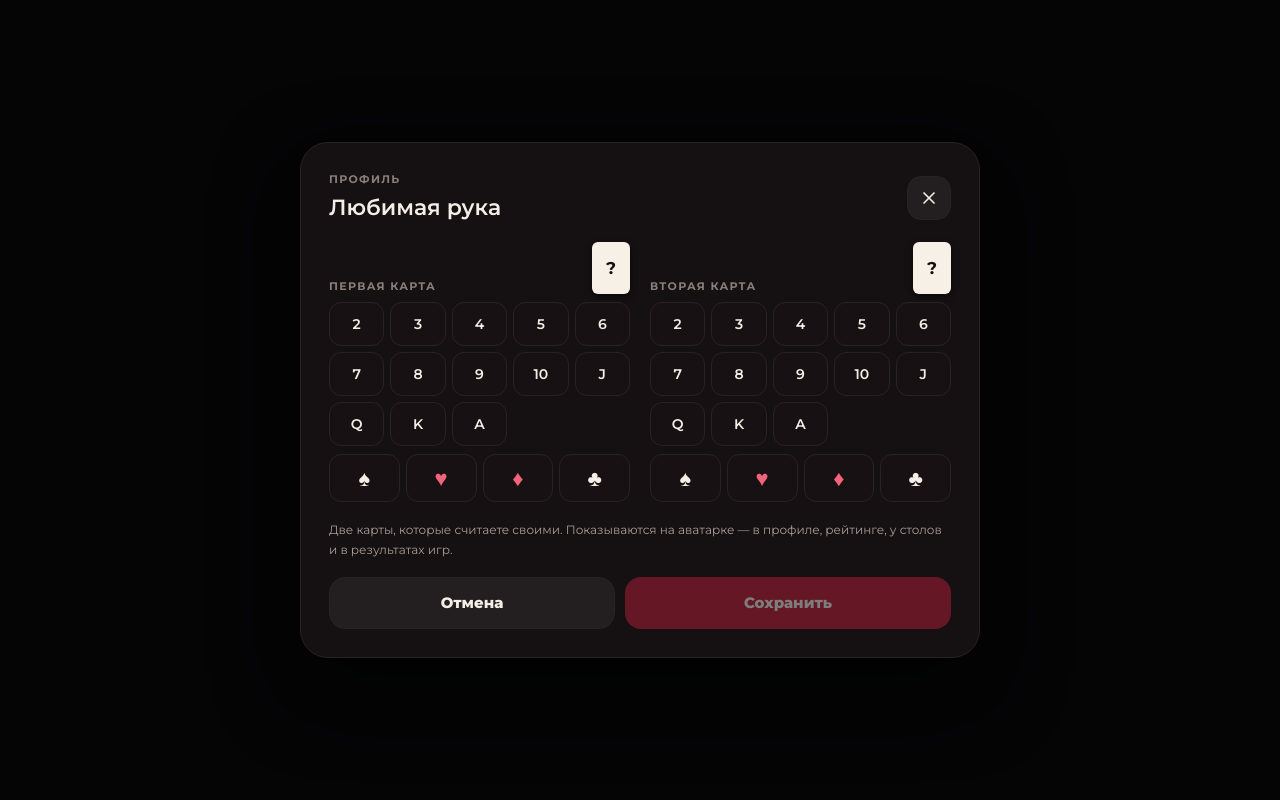
Test: FavoriteHandPicker › shows why the club refused it and stays open
What coordinates should you click on to do the following:
click the button "7" below "Первая карта"
I would click on:
 (357, 374)
Its box is [329,352,384,396].
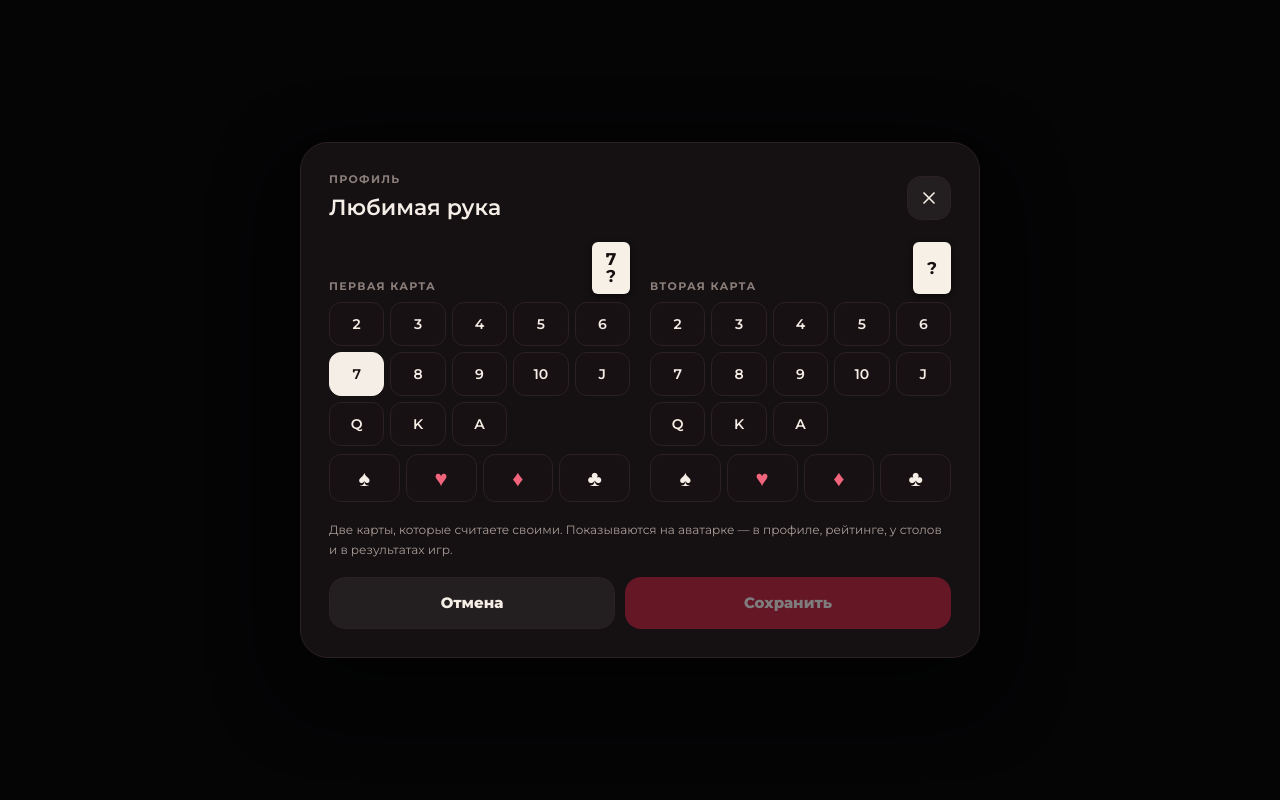
What coordinates should you click on to do the following:
click the button named "трефы"
I would click on:
 (595, 478)
Its box is [559,454,630,502].
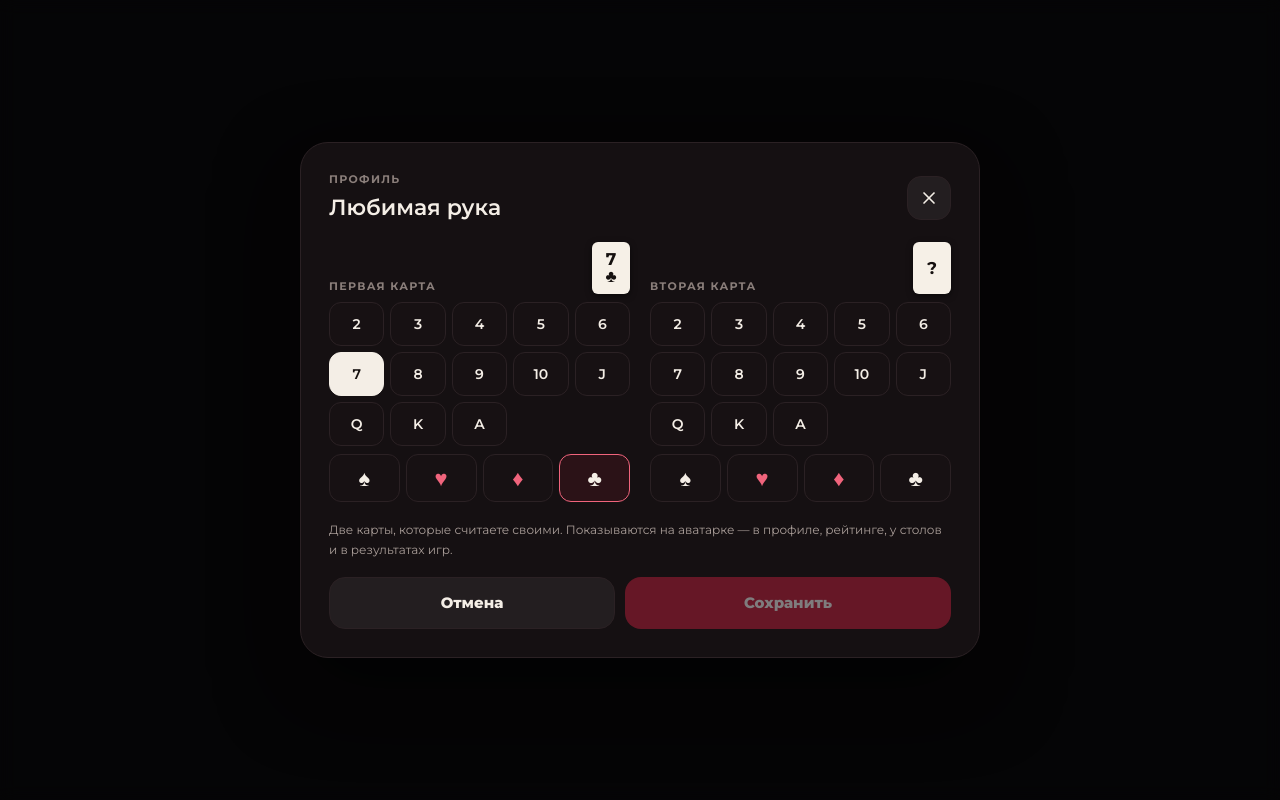
What coordinates should you click on to do the following:
click the button "2" below "Вторая карта"
I would click on:
 (678, 324)
Its box is [650,302,705,346].
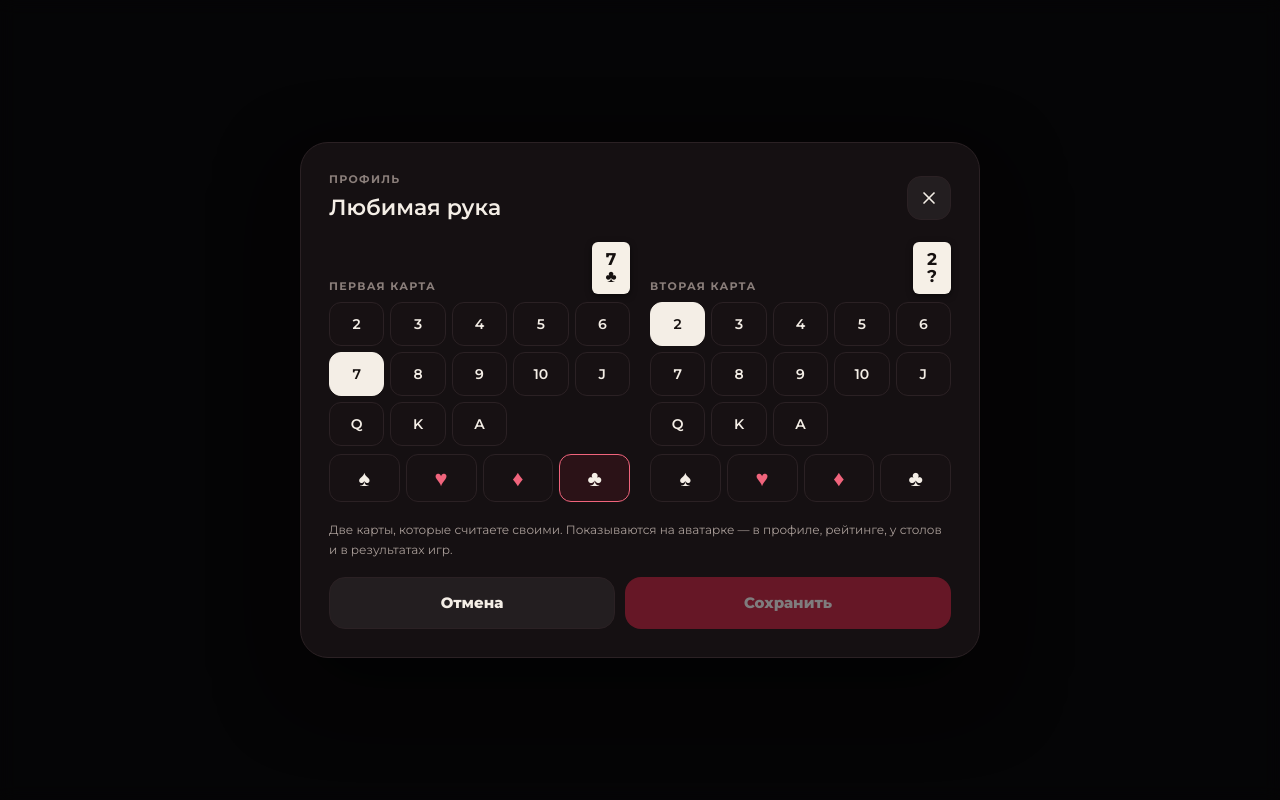
What coordinates should you click on to do the following:
click the button named "червы"
I would click on:
 (762, 478)
Its box is [727,454,798,502].
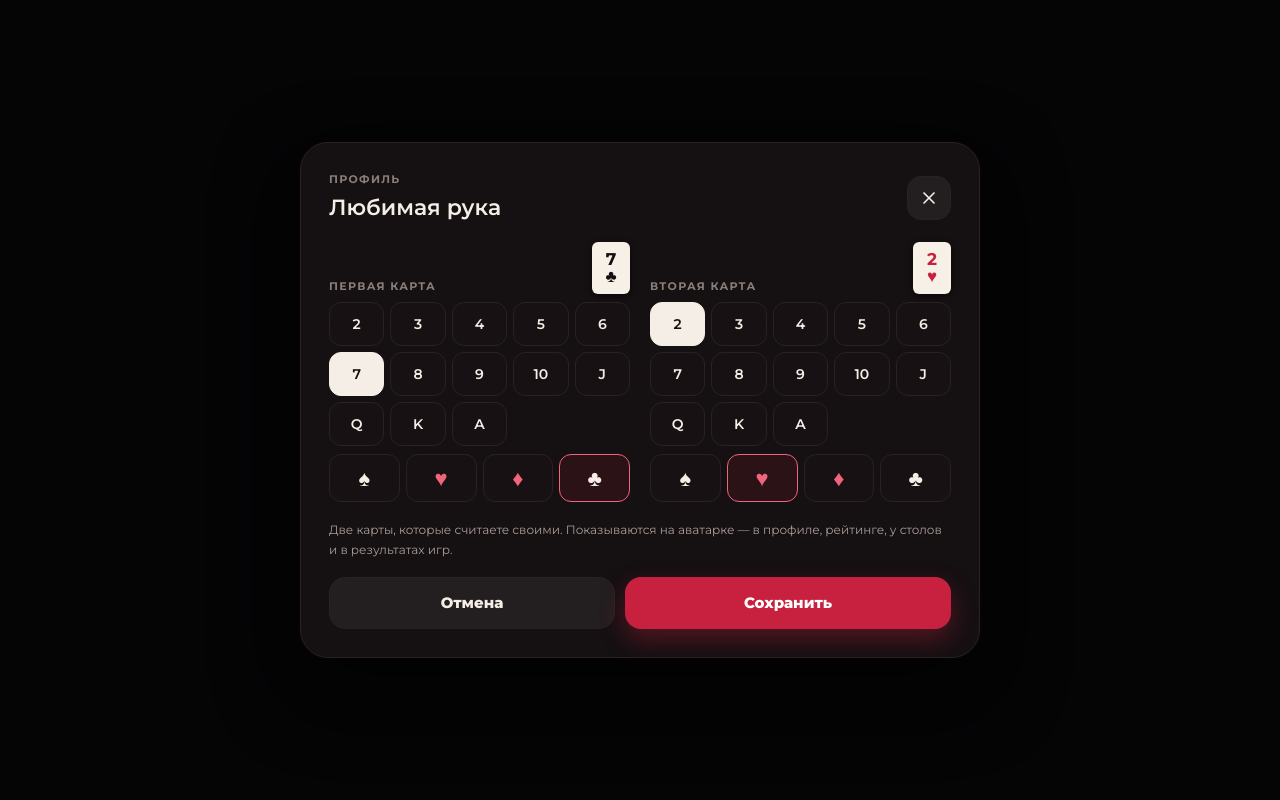
What coordinates should you click on to do the following:
click the button "Сохранить"
I would click on:
 (788, 603)
Its box is [625,577,951,629].
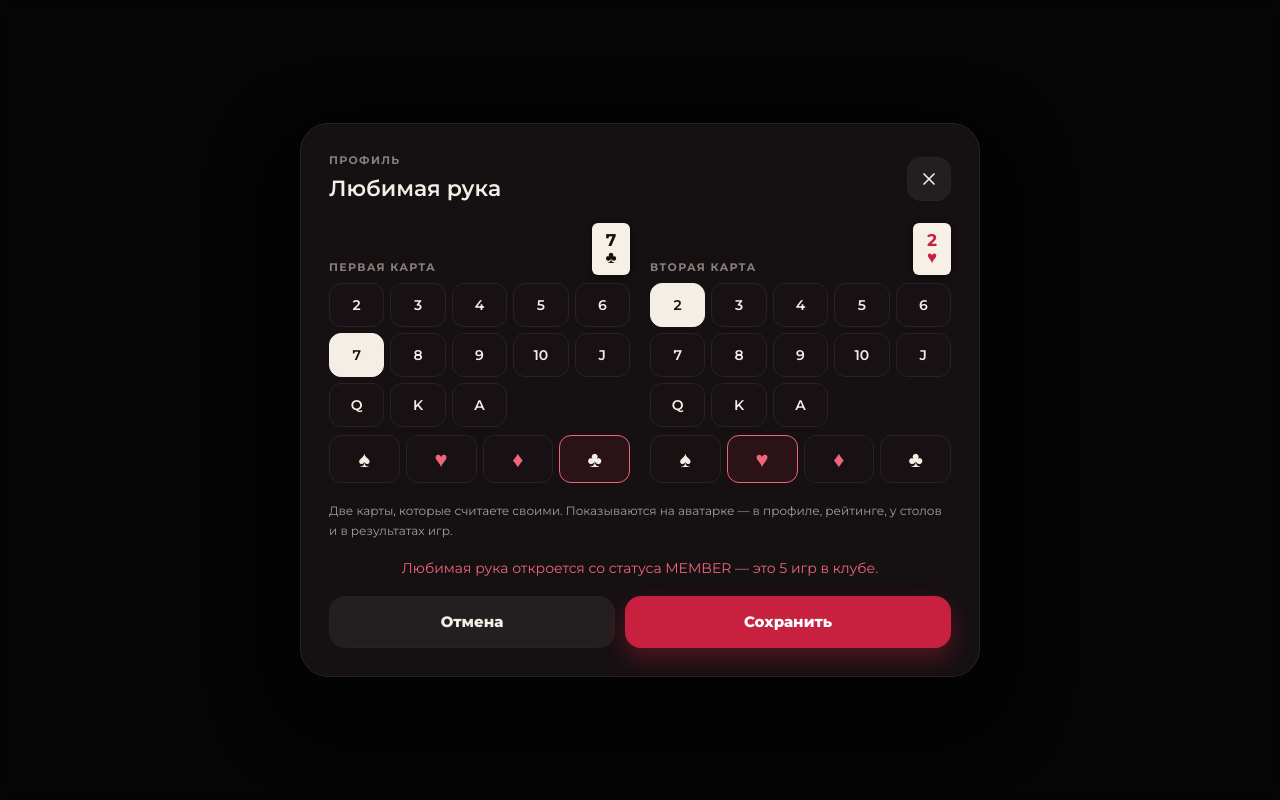
Now the text "откроется со статуса MEMBER" is shown, box [402,559,878,577]
